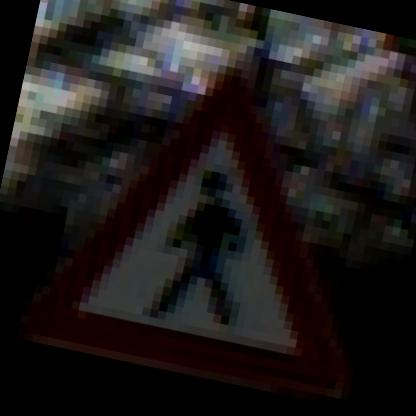crosswalk: (21, 34, 410, 414)
